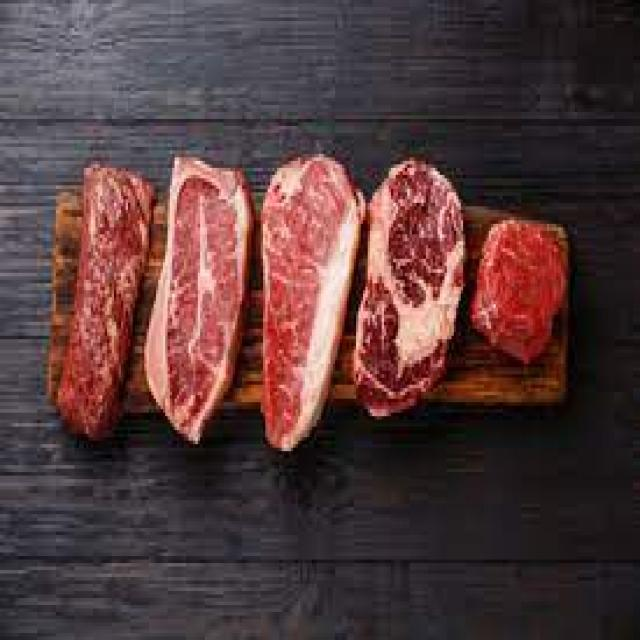beef: (144, 157, 254, 444), (263, 154, 368, 451), (356, 161, 468, 414), (58, 164, 154, 441), (473, 220, 571, 364)
